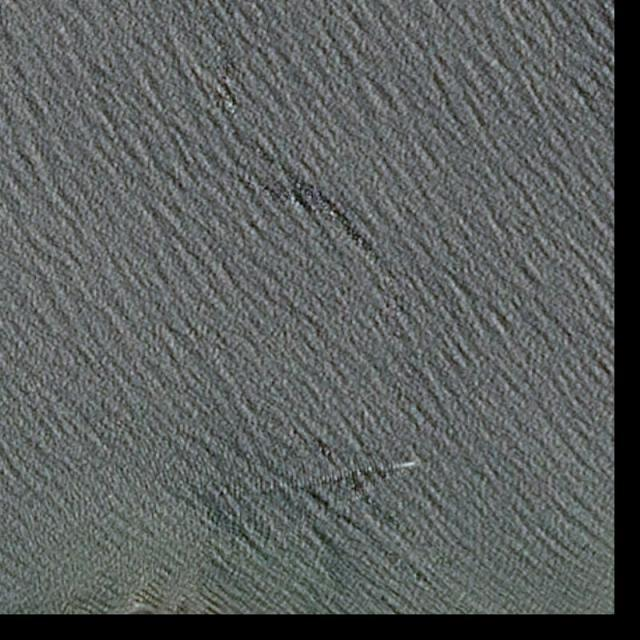ship: (410, 458, 422, 468)
